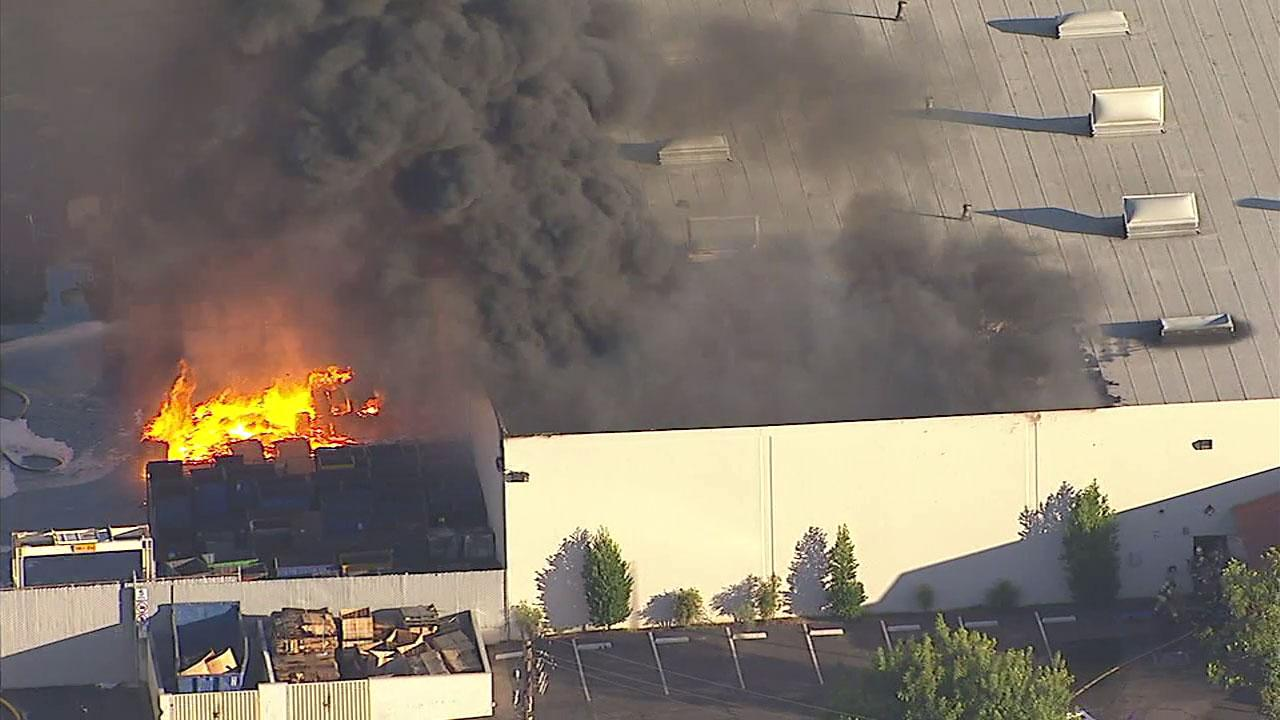Fire: (123, 355, 397, 454)
